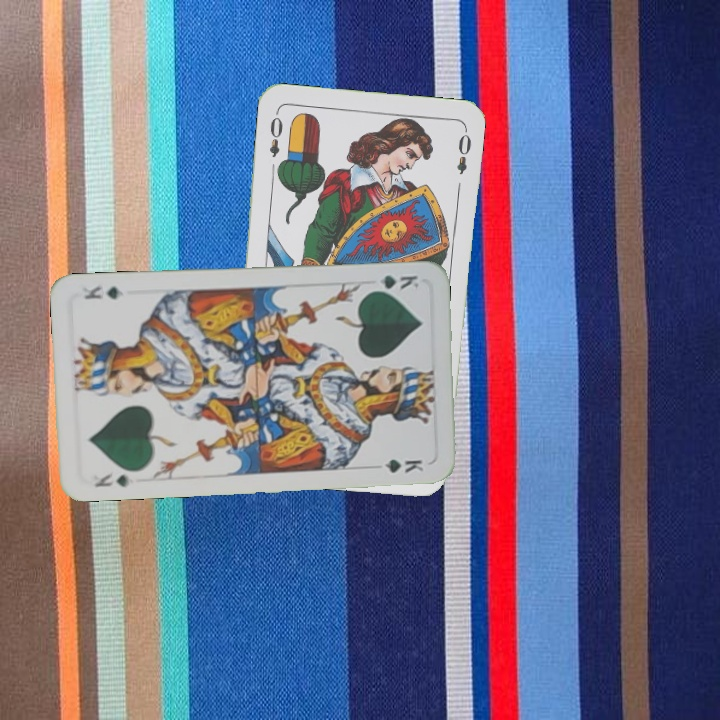EO: (265, 108, 286, 160)
GK: (365, 271, 422, 294), (91, 468, 132, 490)
